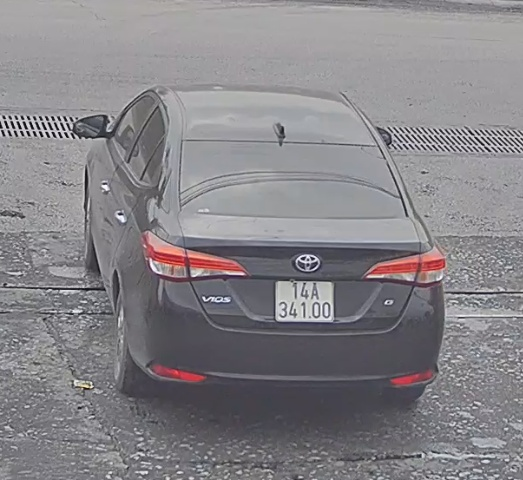vehicle plate: (269, 274, 340, 329)
